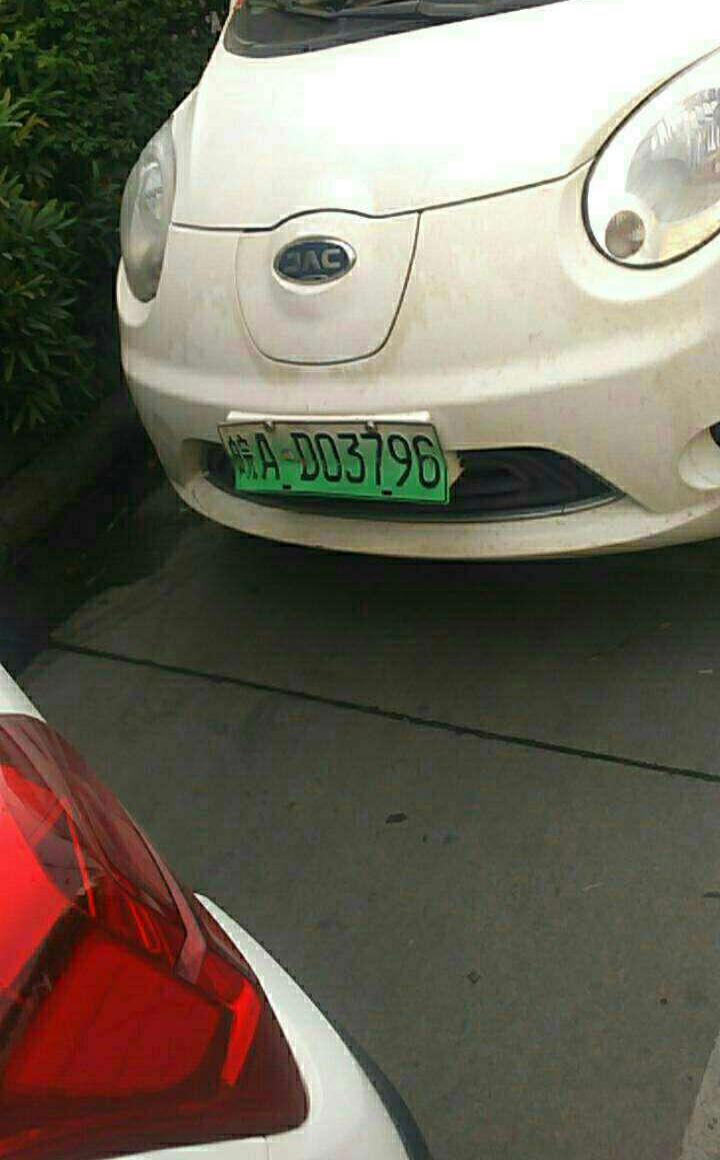car: (209, 411, 461, 506)
